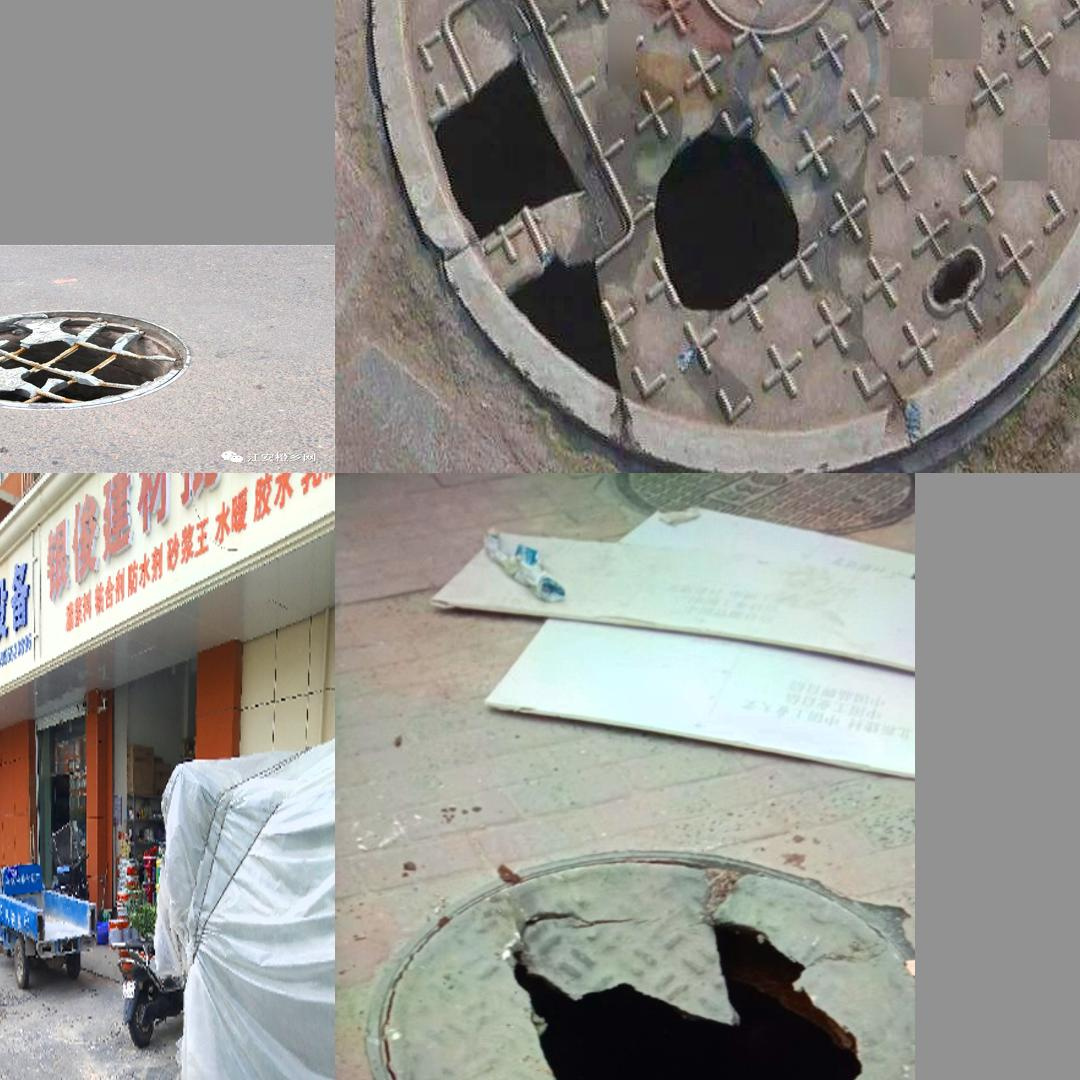broke: (407, 0, 1080, 444), (366, 850, 913, 1080), (0, 302, 191, 415)
